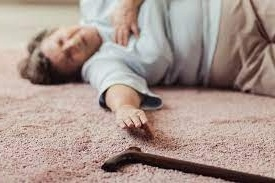fall: (17, 2, 274, 135)
